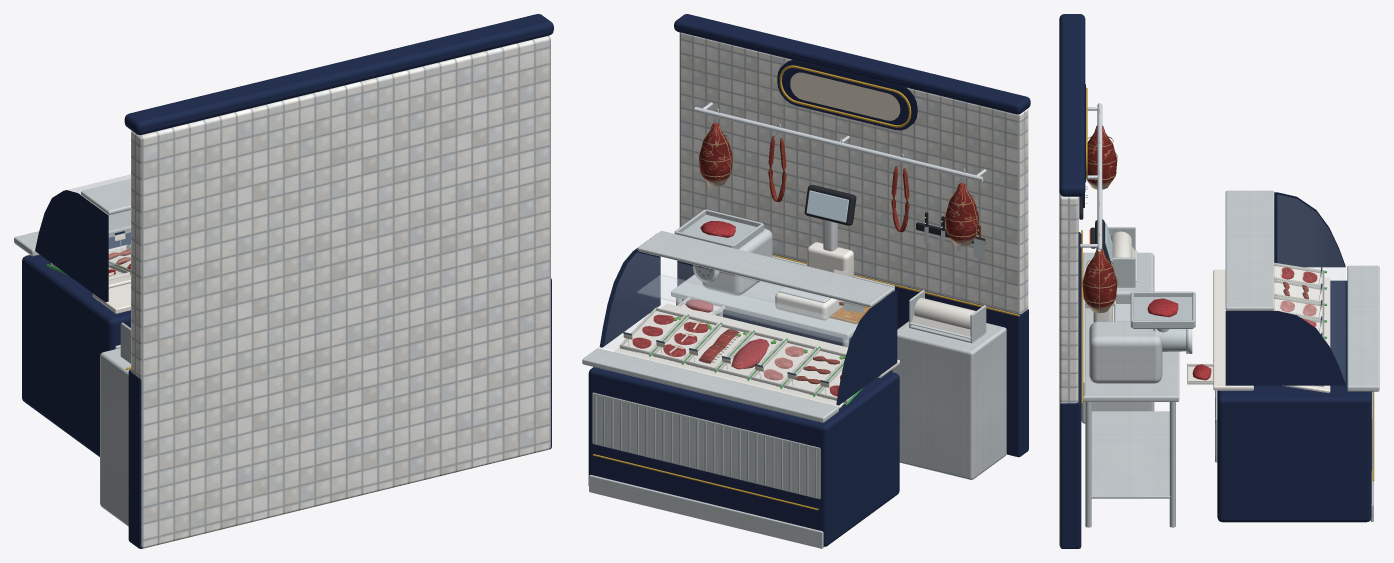
Rendered from sector-acougue_T1.fbx.
3 views of the same model, side by side, from view 1: azimuth 30°, elevation 25°; view 2: azimuth 150°, elevation 25°; view 3: azimuth 270°, elevation 25° (orthographic). The views are drawn at different scales.
Parts seen in each view (by area): view 1: Body; view 2: Body; view 3: Body.
Part boxes in pixels (x1,y1,x2,y2): Body: [14, 14, 553, 548]; Body: [582, 14, 1030, 548]; Body: [1059, 14, 1379, 548].
Size of the model in its own units: 2.54 by 2.48 by 1.98.
